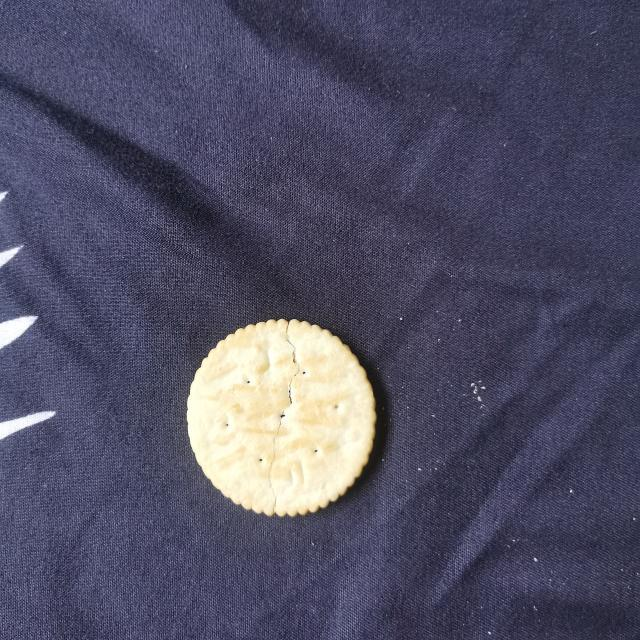Fracture: (257, 322, 307, 520)
